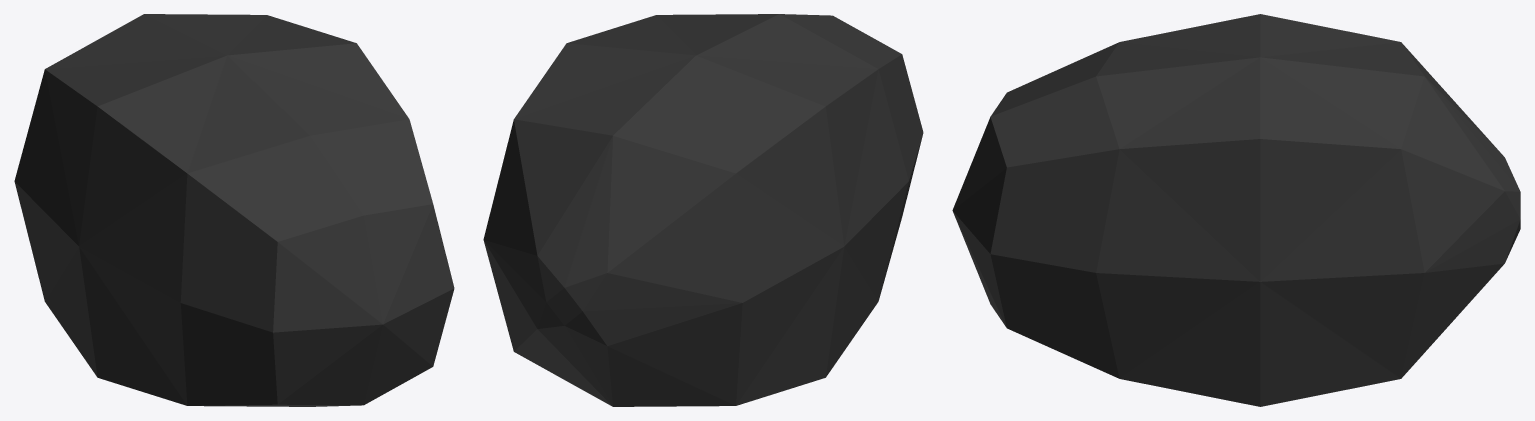
The model's file is abdomen.gltf.
3 renders of one model, left to right at view 1: azimuth 30°, elevation 25°; view 2: azimuth 150°, elevation 25°; view 3: azimuth 270°, elevation 25°, orthographic.
Parts seen in each view (by area): view 1: abdomen; view 2: abdomen; view 3: abdomen.
Boxes of the visible parts, x1,y1,x2,y2 form: abdomen: (14, 14, 454, 406); abdomen: (483, 14, 923, 406); abdomen: (952, 14, 1520, 406).
Size of the model in its own units: 1.8 by 1.8 by 3.03.
